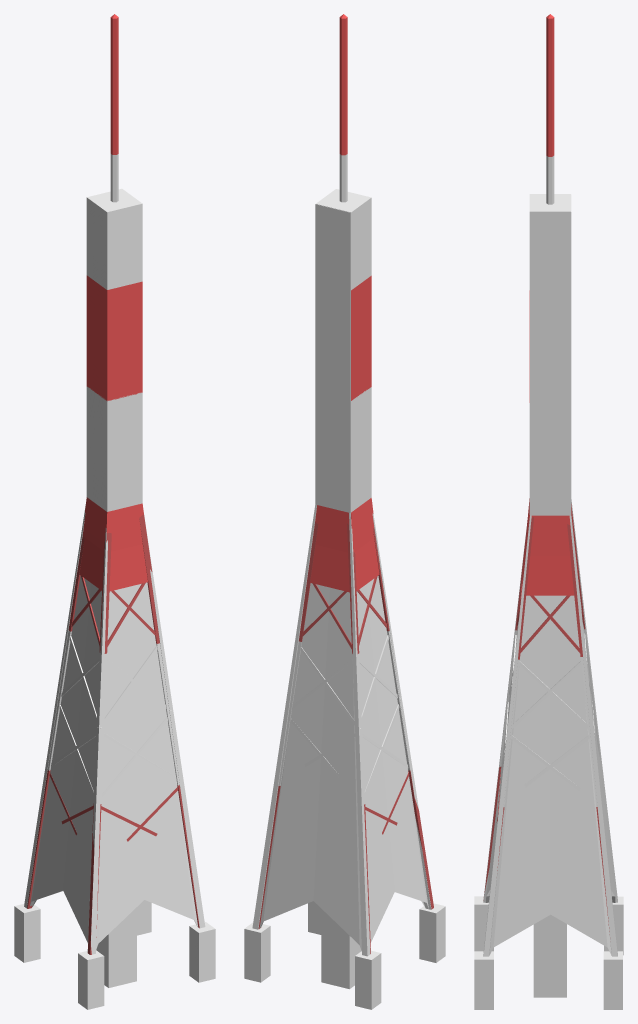
The model's file is antenna.dae.
3 renders of one model, left to right at view 1: azimuth 30°, elevation 25°; view 2: azimuth 150°, elevation 25°; view 3: azimuth 270°, elevation 25°, orthographic.
Visible parts, largest first — view 1: Colmesh-1, antenna_a250; view 2: Colmesh-1, antenna_a250; view 3: Colmesh-1, antenna_a250.
Part boxes in pixels (x1,y1,x2,y2): Colmesh-1: [14, 191, 215, 1009]; antenna_a250: [27, 14, 199, 987]; Colmesh-1: [244, 192, 445, 1009]; antenna_a250: [258, 14, 433, 988]; Colmesh-1: [474, 194, 623, 1009]; antenna_a250: [483, 14, 609, 997].
Size of the model in its own units: 900 by 898 by 6483.
